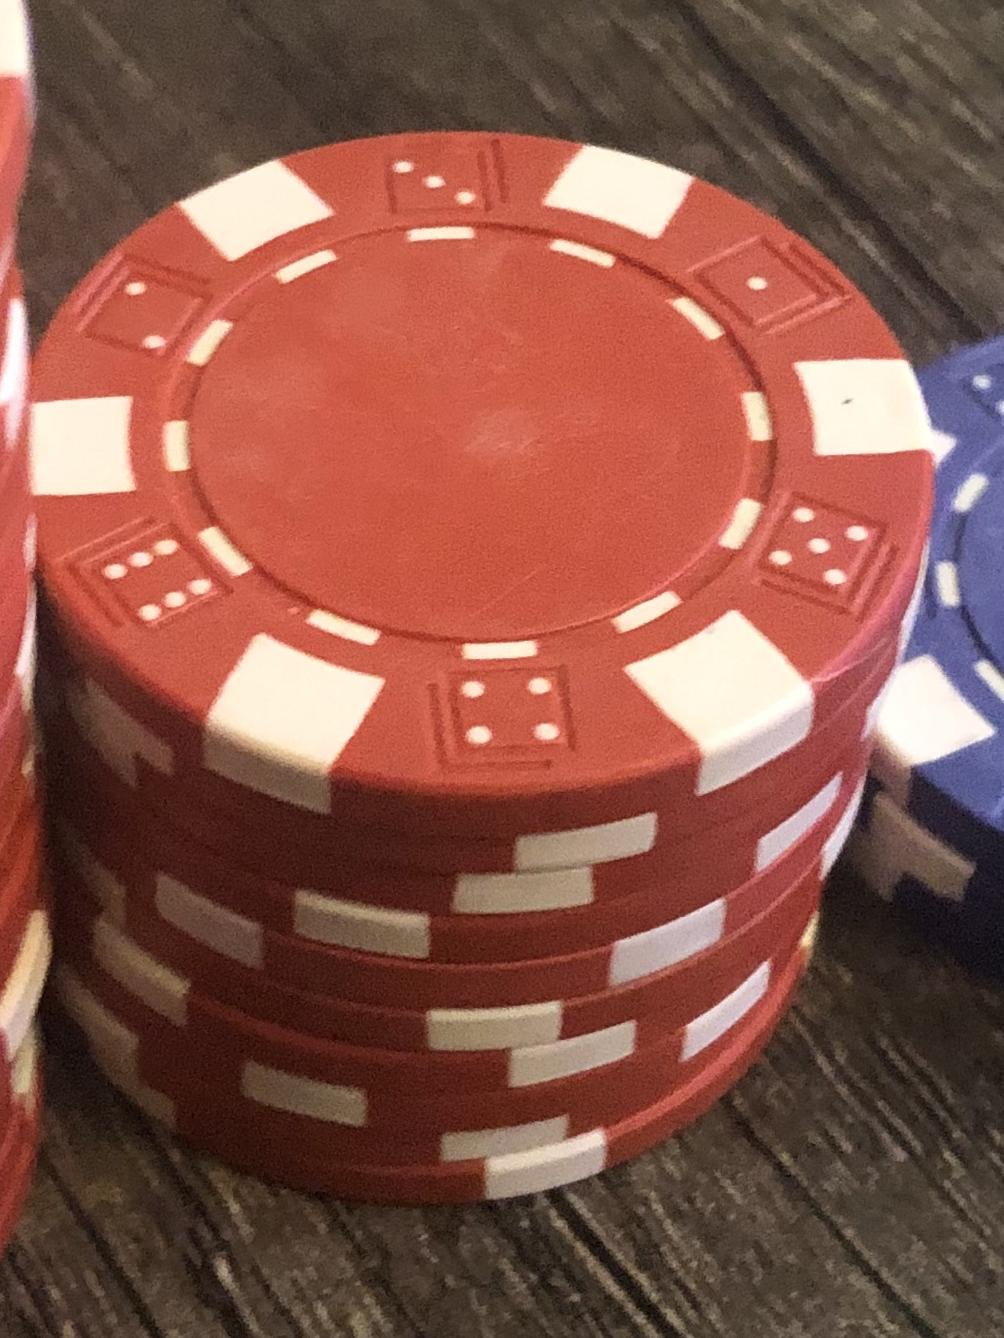Chip: (1, 1, 1004, 1338)
